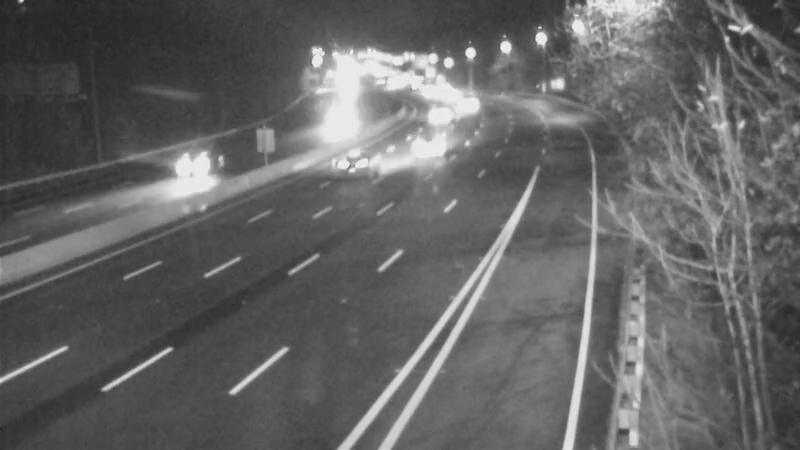vehicle: (310, 125, 390, 205), (145, 120, 225, 200), (422, 70, 472, 120), (446, 81, 496, 131), (411, 93, 461, 143), (403, 120, 453, 170), (316, 103, 366, 153)
